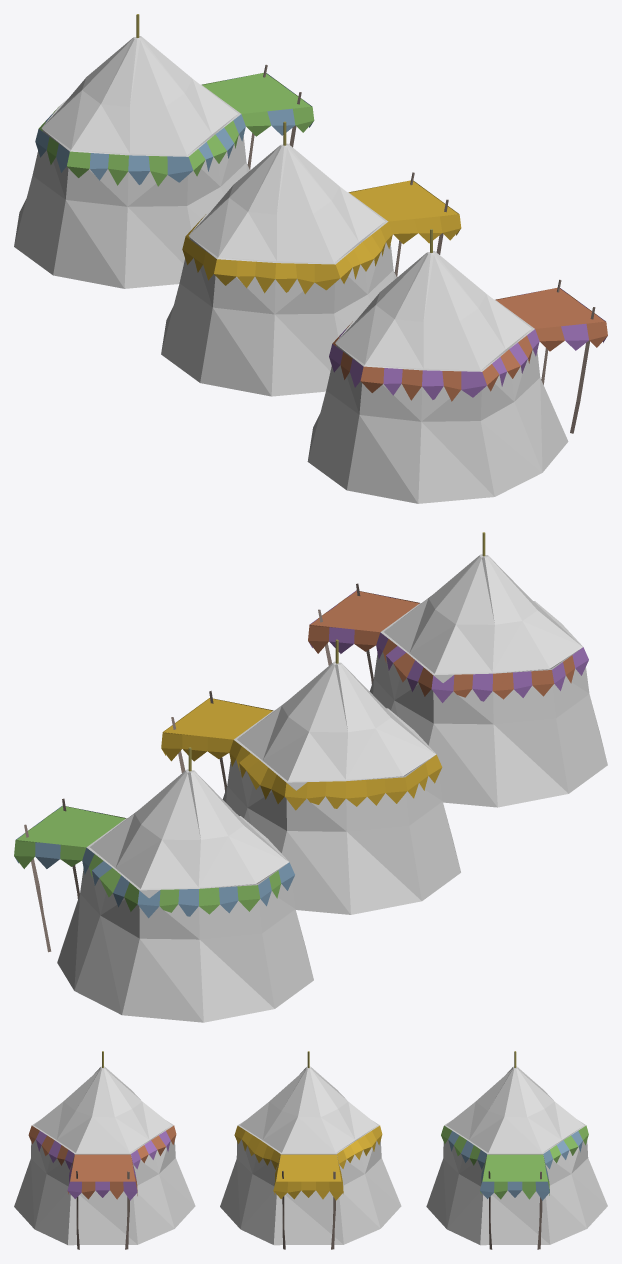
The model's file is tentes.fbx.
The picture shows the model from 3 angles, top to bottom: view 1: azimuth 30°, elevation 25°; view 2: azimuth 150°, elevation 25°; view 3: azimuth 270°, elevation 25°; orthographic projection. The views are drawn at different scales.
Visible parts, largest first — view 1: tente_orange, tente_verte, tente_jaune; view 2: tente_verte, tente_jaune, tente_orange; view 3: tente_verte, tente_jaune, tente_orange.
Part boxes in pixels (x1,y1,x2,y2): tente_orange: (307, 229, 607, 503); tente_verte: (14, 14, 314, 288); tente_jaune: (161, 121, 461, 396); tente_verte: (14, 747, 313, 1022); tente_jaune: (161, 639, 460, 914); tente_orange: (308, 532, 607, 807); tente_verte: (426, 1051, 607, 1249); tente_jaune: (220, 1051, 401, 1249); tente_orange: (14, 1051, 195, 1249).
Size of the model in its own units: 388 by 320 by 1102.
